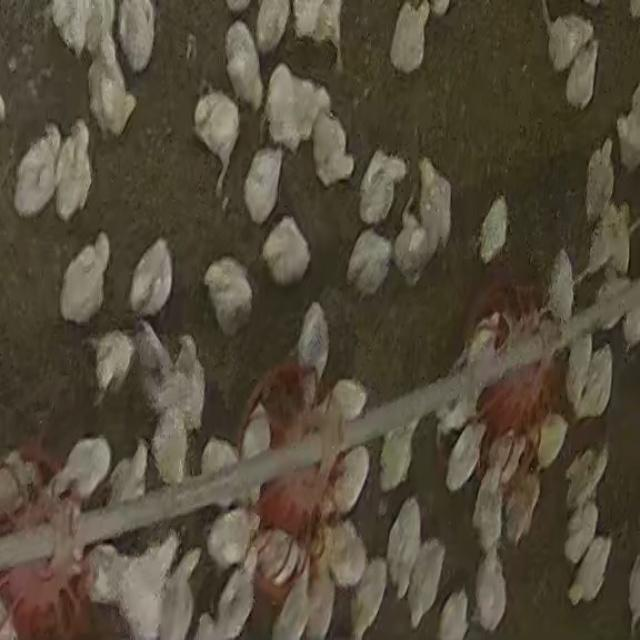chicken: (113, 534, 182, 636), (264, 62, 322, 152), (192, 90, 242, 192), (58, 232, 110, 322), (157, 543, 202, 640), (202, 255, 255, 337), (52, 435, 112, 505), (86, 54, 134, 140), (568, 339, 616, 425), (412, 154, 451, 256), (55, 122, 95, 221), (13, 137, 61, 219), (357, 149, 407, 226), (470, 452, 508, 550), (261, 215, 312, 287), (129, 237, 174, 318), (588, 266, 638, 336), (204, 505, 257, 571), (242, 144, 284, 226), (502, 451, 539, 544), (224, 21, 263, 109), (346, 228, 394, 298), (312, 108, 354, 188), (568, 533, 612, 608), (388, 0, 432, 74), (242, 401, 273, 505), (406, 540, 445, 622), (92, 329, 134, 405), (309, 378, 369, 430), (583, 199, 621, 281), (544, 11, 594, 73), (212, 567, 256, 637), (200, 438, 243, 507), (151, 405, 188, 484), (564, 446, 606, 514), (296, 300, 332, 377), (331, 446, 371, 515), (326, 523, 368, 588), (392, 215, 430, 286), (117, 0, 155, 70), (444, 422, 482, 490), (473, 558, 507, 631), (355, 559, 389, 630), (565, 38, 598, 111), (378, 426, 414, 492), (564, 502, 600, 568), (478, 194, 510, 264), (393, 498, 422, 574), (547, 249, 575, 327), (615, 104, 640, 176)
